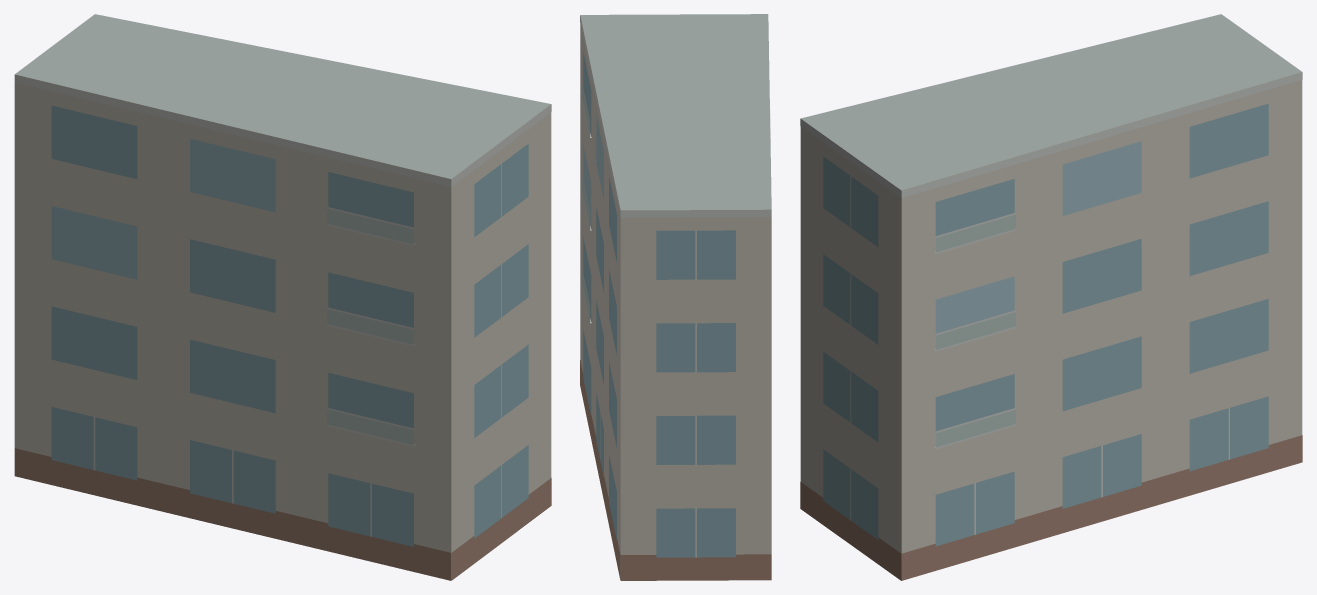
File: survey-upis-32502060.glb
The picture shows the model from 3 angles, left to right: view 1: azimuth 30°, elevation 25°; view 2: azimuth 150°, elevation 25°; view 3: azimuth 270°, elevation 25°; orthographic projection. The views are drawn at different scales.
Parts seen in each view (by area): view 1: survey-upis-32502060.tmp; view 2: survey-upis-32502060.tmp; view 3: survey-upis-32502060.tmp.
Boxes of the visible parts, box(x1,y1,x2,y2) form: survey-upis-32502060.tmp: box(14, 14, 551, 580); survey-upis-32502060.tmp: box(580, 14, 771, 580); survey-upis-32502060.tmp: box(800, 14, 1302, 580).
Bounding box in the file's own units: 12.03 × 12.4 × 14.46.
